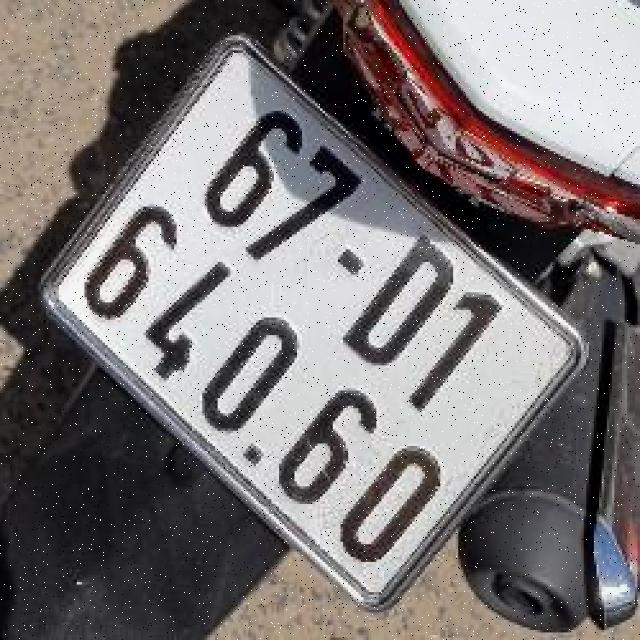0: (328, 430, 468, 580), (187, 297, 319, 450)
1: (386, 277, 527, 430)
4: (130, 247, 262, 392)
6: (258, 369, 401, 524), (187, 95, 322, 243), (70, 189, 194, 338)
7: (229, 130, 375, 281)
D: (339, 223, 470, 380)
